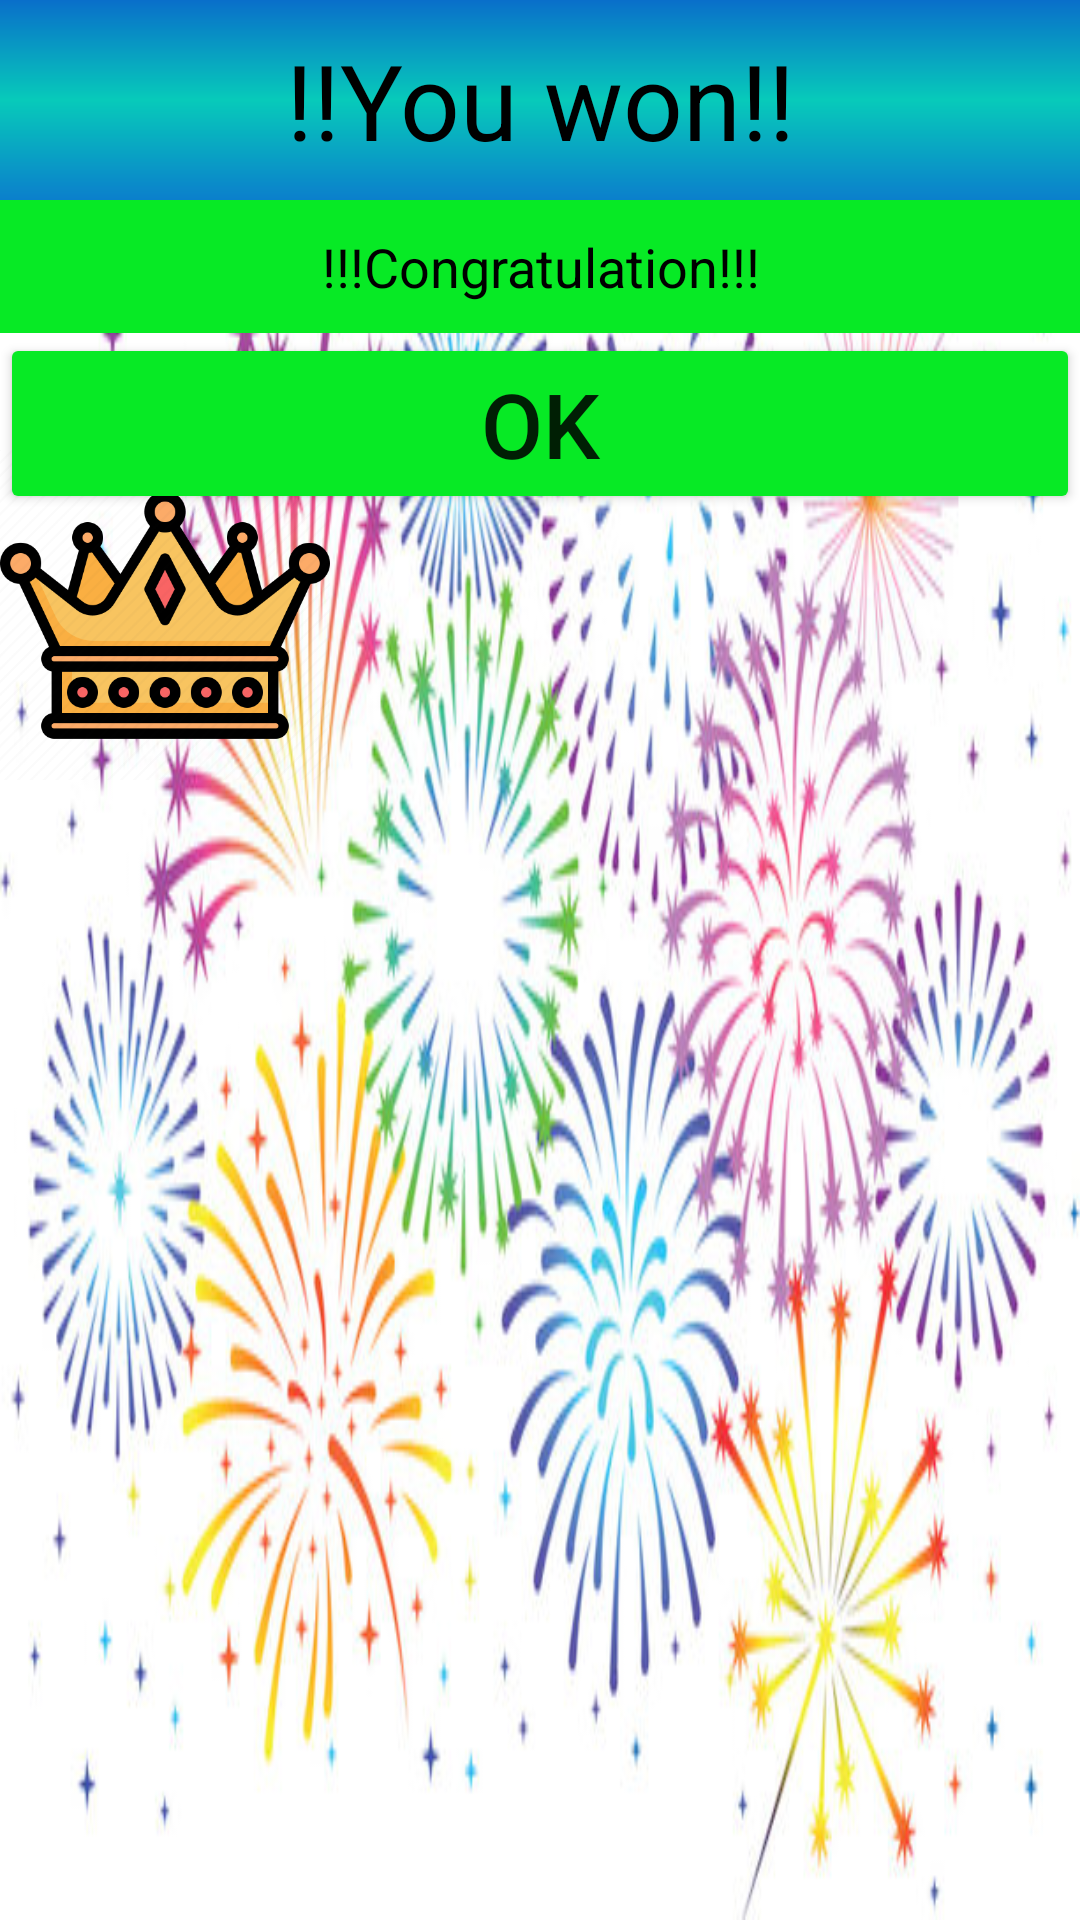

Where to tap for icons on this 1080px×1920px app screen, as (x=x, y=y):
crown: (x=165, y=615)
